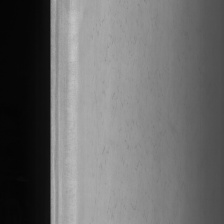silk_spot: (95, 15, 179, 193)
